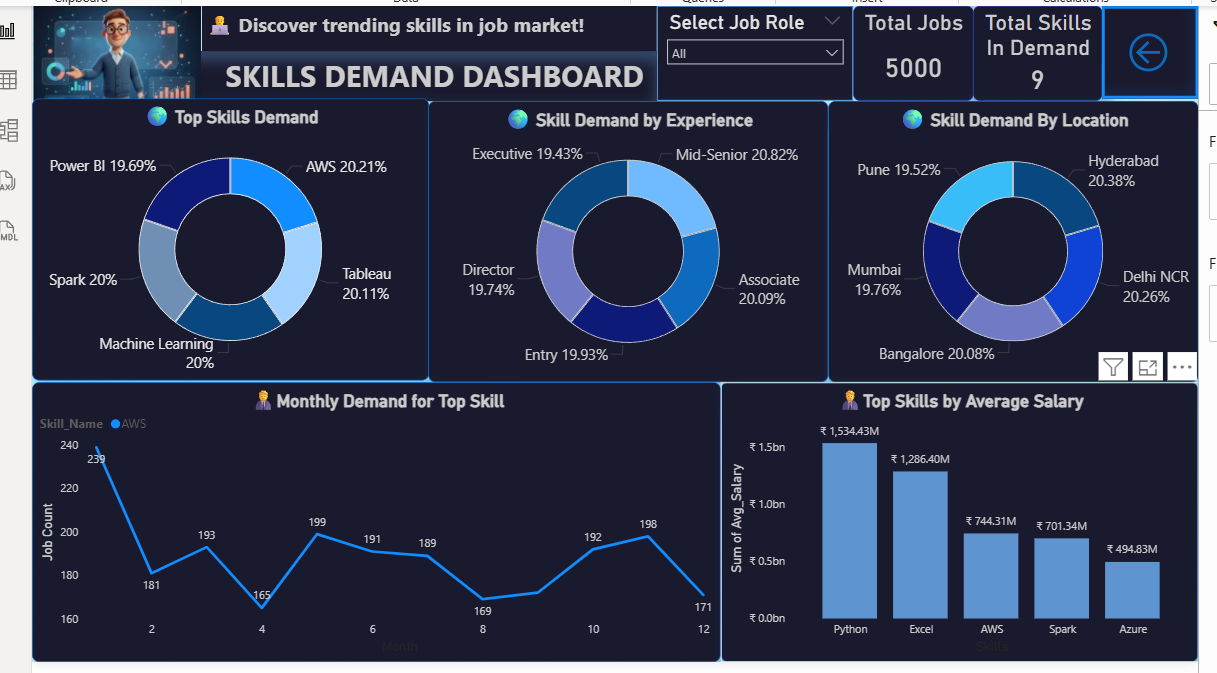

The page's visual inventory and layout, read from the dashboard file:
{"tool":"powerbi","page":{"name":"Page 2","canvas":[1280,720],"ordinal":1},"visuals":[{"type":"textbox","box":[141.3,49.4,544.8,54.9],"z":0},{"type":"textbox","box":[186.6,0,499.5,49.4],"z":1000},{"type":"image","box":[0,0,187.2,103.8],"z":2000},{"type":"slicer","fields":{"Values":["job_market fact_jobs.Job_Title"]},"box":[686.1,0,215.4,104.3],"z":3000},{"type":"card","title":"Total Jobs","fields":{"Values":["skills_by_role.Total Jobs"]},"box":[901.5,0,131.7,104.3],"z":4000},{"type":"card","title":"Total Skills In Demand","fields":{"Values":["skills_by_role.Total Skill Demand"]},"box":[1033.3,0,141.3,104.3],"z":5000},{"type":"donutChart","title":"🌍 Top Skills Demand","fields":{"Category":["job_market dim_skills.Skill_Name"],"Y":["skills_by_role.Job Count"]},"box":[0,102.1,435.7,309.8],"z":6000},{"type":"donutChart","title":"🌍 Skill Demand by Experience","fields":{"Category":["job_market fact_jobs.Experience_Level"],"Y":["skills_by_role.Jobs by Experience"]},"box":[435,104.3,439.1,308.7],"z":7000},{"type":"donutChart","title":"🌍 Skill Demand By Location","fields":{"Y":["skills_by_role.Jobs by Location"],"Category":["job_market dim_location.City"]},"box":[874.1,104.3,406.2,308.7],"z":8000},{"type":"lineChart","title":"🧑💼Monthly Demand for Top Skill","fields":{"Category":["job_market fact_jobs.Month"],"Series":["job_market dim_skills.Skill_Name"],"Y":["skills_by_role.Job Count"]},"box":[0,413,756.1,307.4],"z":9000},{"type":"columnChart","title":"🧑💼Top Skills by Average Salary","fields":{"Category":["job_market_realistic_5000.Skills"],"Y":["Sum(job_market_realistic_5000.Avg_Salary)"]},"box":[756.1,413,524.2,307.4],"z":10000},{"type":"actionButton","box":[1174.6,0,105.7,52.1],"z":11000},{"type":"actionButton","box":[1174.6,52.1,105.7,52.1],"z":12000}]}

Visuals, with their boxes on the page's 1280x720 design canvas (x1, y1, x2, y2). These are canvas units, not pixel positions in the 1217x673 screenshot, which may show the page scaled, cropped or inside an application window:
textbox: 141/49/686/104
textbox: 187/0/686/49
image: 0/0/187/104
slicer - job_market fact_jobs.Job_Title: 686/0/902/104
"Total Jobs" card: 902/0/1033/104
"Total Skills In Demand" card: 1033/0/1175/104
"🌍 Top Skills Demand" donutChart: 0/102/436/412
"🌍 Skill Demand by Experience" donutChart: 435/104/874/413
"🌍 Skill Demand By Location" donutChart: 874/104/1280/413
"🧑💼Monthly Demand for Top Skill" lineChart: 0/413/756/720
"🧑💼Top Skills by Average Salary" columnChart: 756/413/1280/720
actionButton: 1175/0/1280/52
actionButton: 1175/52/1280/104
